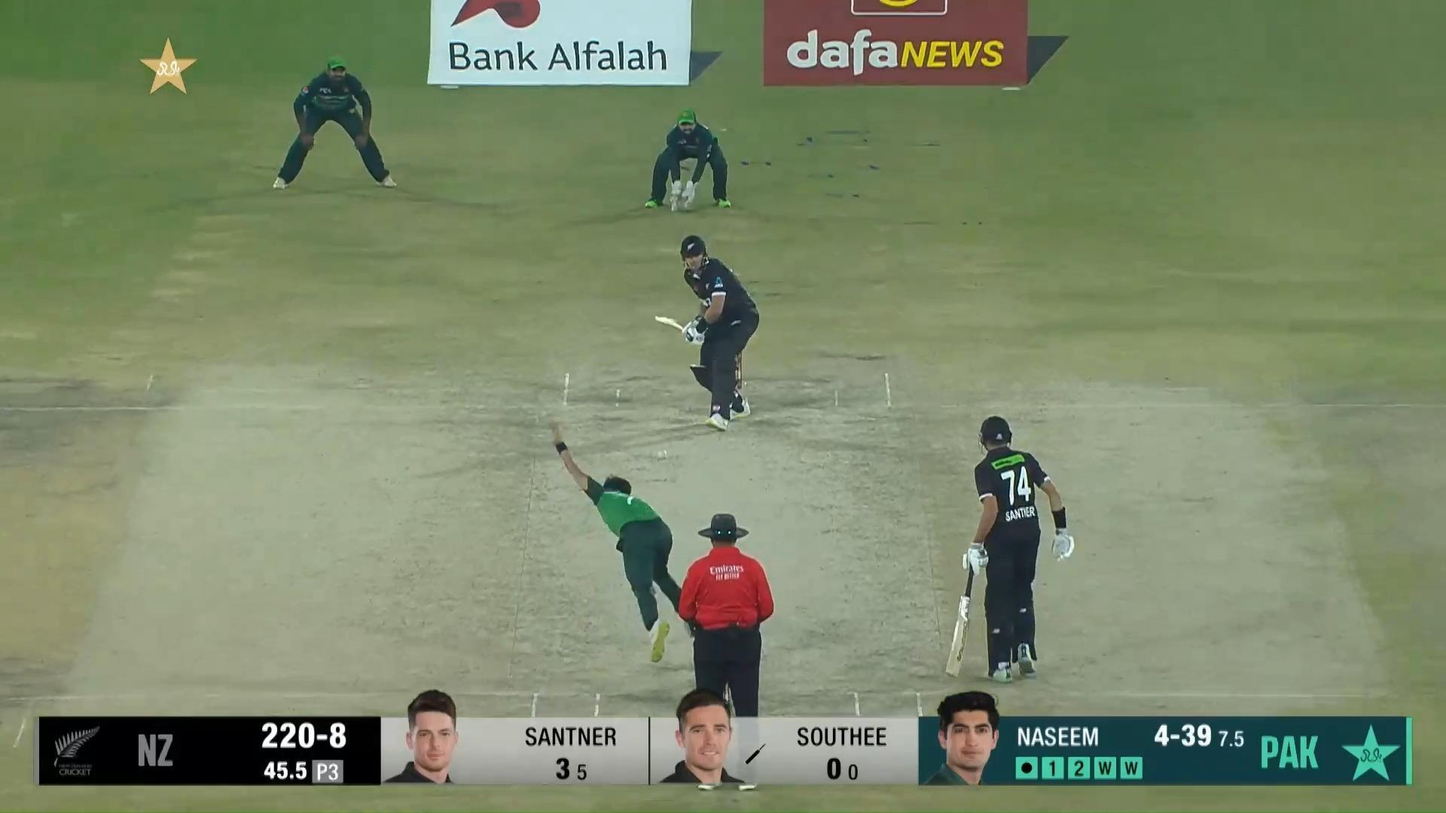BM 1: (655, 234, 759, 432)
BO: (550, 421, 683, 662)
